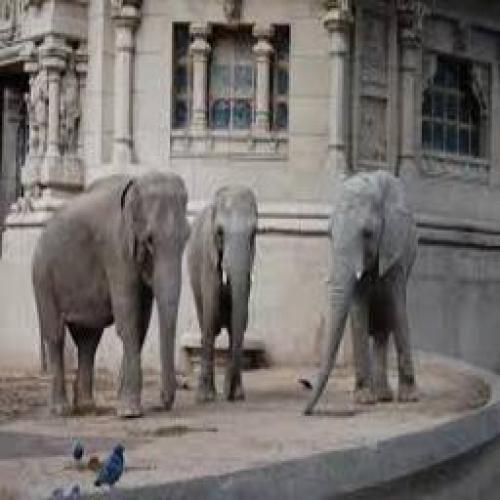african_elephant-endangered: (28, 172, 193, 417), (297, 168, 425, 422), (182, 178, 266, 406)
